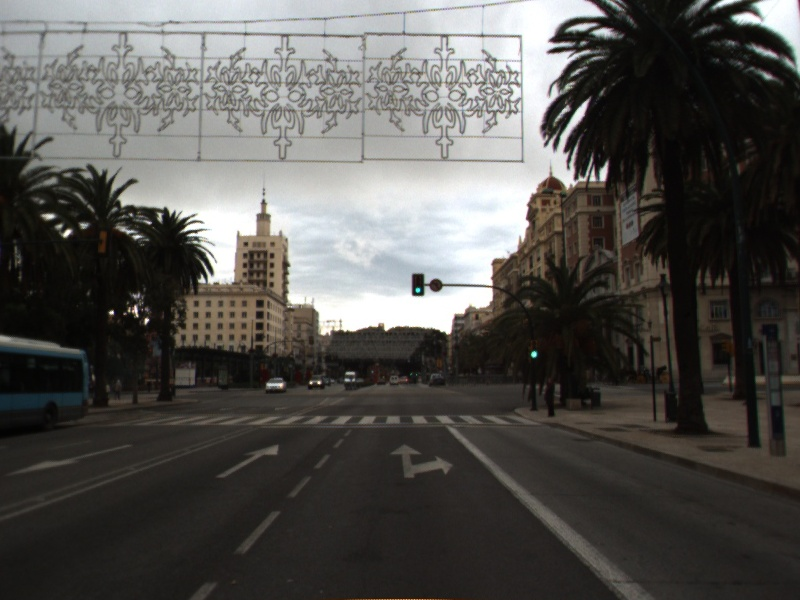STRAIGHT: (213, 442, 280, 480)
STRAIGHT_RIGHT: (388, 442, 455, 480)
